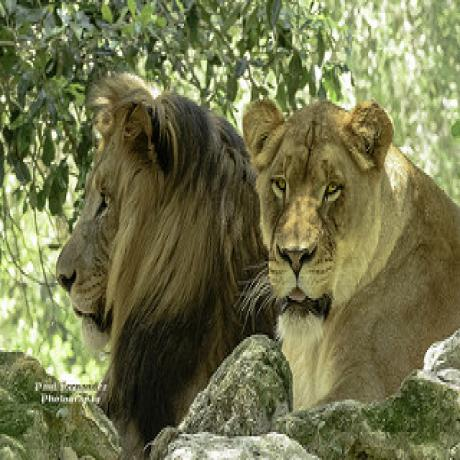Lion: (73, 67, 261, 442), (242, 86, 460, 407)
